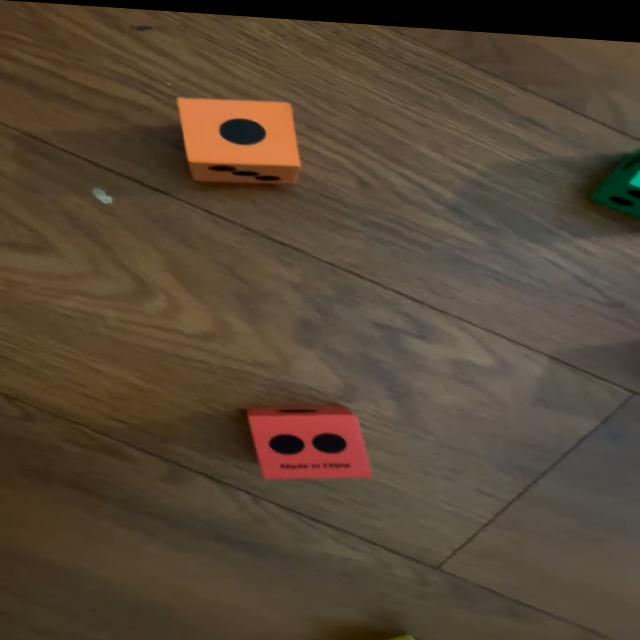red_block: (244, 396, 370, 482)
